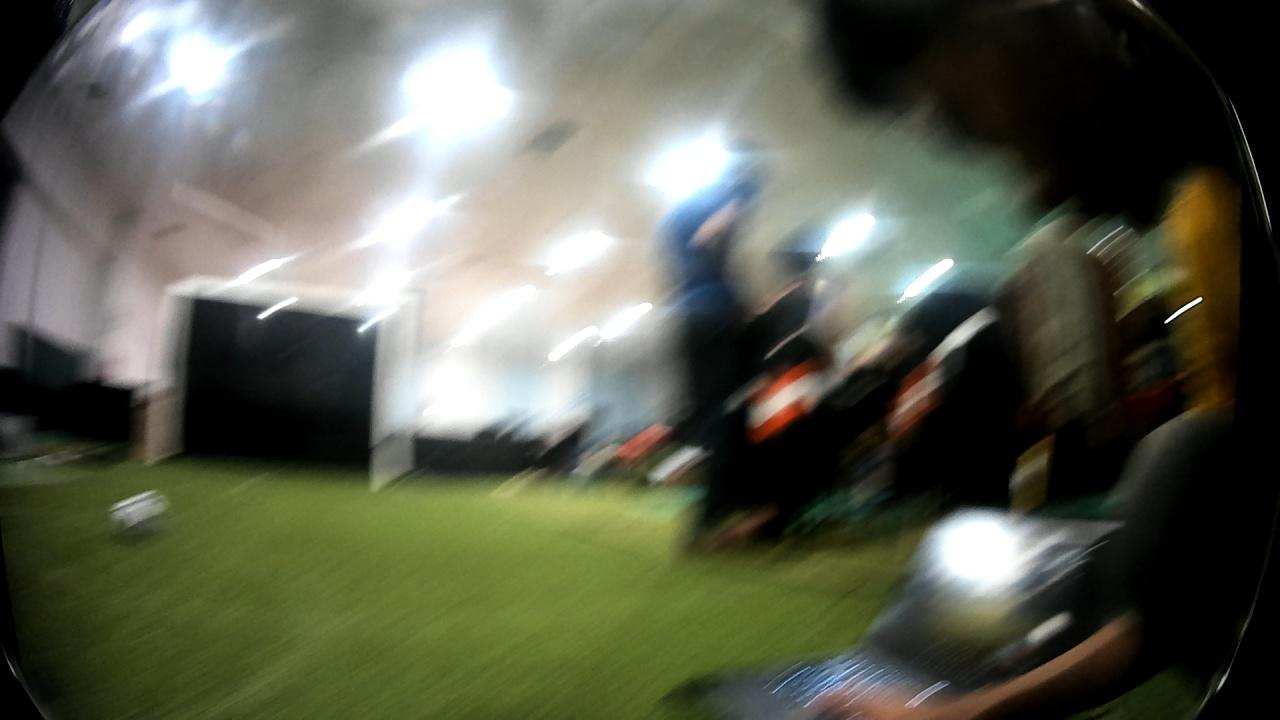ball: (97, 482, 182, 542)
